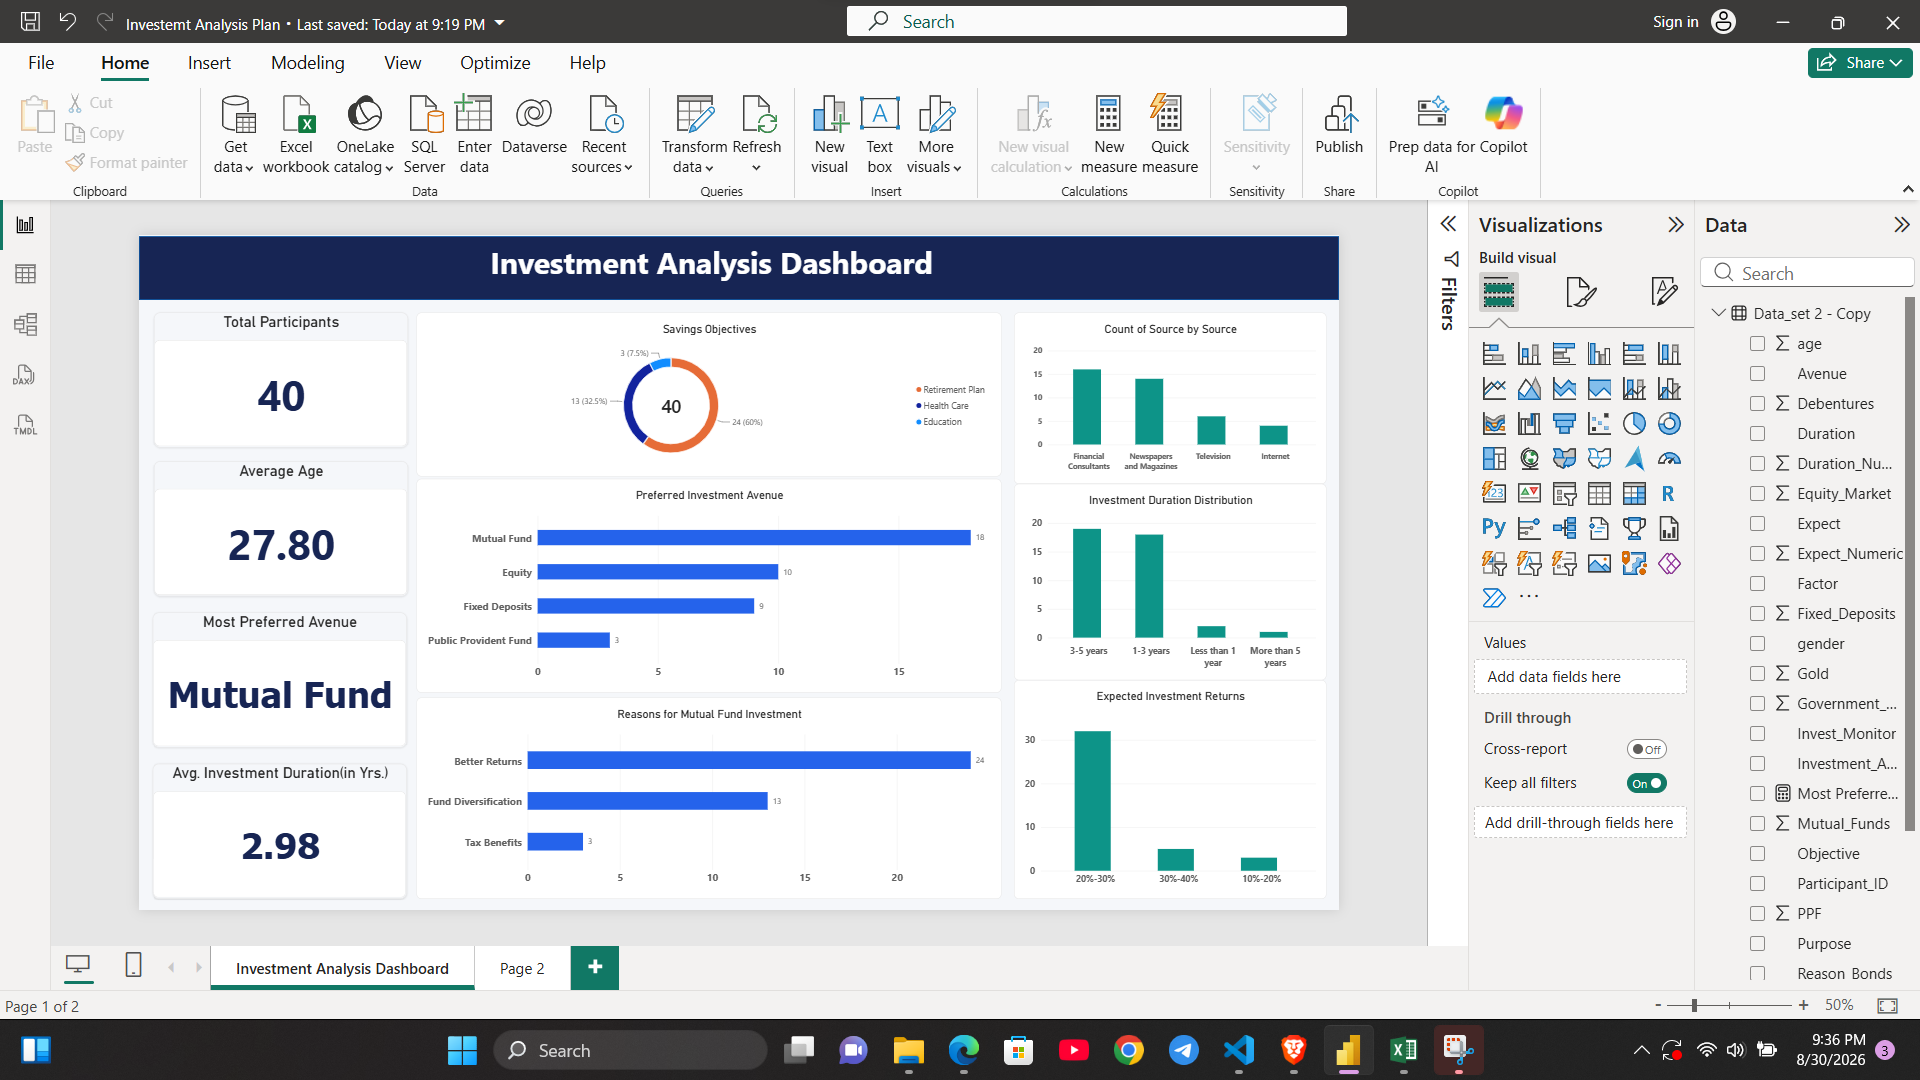

The page's visual inventory and layout, read from the dashboard file:
{"tool":"powerbi","page":{"name":"Investment Analysis Dashboard","canvas":[1920,1080],"ordinal":0},"visuals":[{"type":"shape","box":[0,2,1920,102],"z":0},{"type":"textbox","box":[562,10,718.4,78.2],"z":1000},{"type":"textbox","box":[0,140,300,300],"z":2000},{"type":"cardVisual","title":"Total Participants","fields":{"Data":["CountNonNull(Data_set 2 - Copy.Participant_ID)"]},"box":[24,124,406,216],"z":3000},{"type":"cardVisual","title":"Average Age","fields":{"Data":["Avg(Data_set 2 - Copy.age)"]},"box":[24,362,406,216],"z":4000},{"type":"cardVisual","title":"Most Preferred Avenue","fields":{"Data":["Data_set 2 - Copy.Most Preferred Avenue"]},"box":[22,604,406,216],"z":5000},{"type":"cardVisual","title":"Avg. Investment Duration(in Yrs.)","fields":{"Data":["Avg(Data_set 2 - Copy.Duration_Numeric)"]},"box":[22,846,406,216],"z":6000},{"type":"clusteredBarChart","title":"Preferred Investment Avenue","fields":{"Y":["CountNonNull(Data_set 2 - Copy.Avenue)"],"Category":["Data_set 2 - Copy.Avenue"]},"box":[444,390,936,342],"z":7000},{"type":"clusteredBarChart","title":"Reasons for Mutual Fund Investment","fields":{"Category":["Data_set 2 - Copy.Reason_Mutual"],"Y":["CountNonNull(Data_set 2 - Copy.Reason_Mutual)"]},"box":[444,740,936,322],"z":8000},{"type":"donutChart","title":"Savings Objectives","fields":{"Category":["Data_set 2 - Copy.What are your savings objectives?"],"Y":["CountNonNull(Data_set 2 - Copy.What are your savings objectives?)"]},"box":[444,124,936,262],"z":9000},{"type":"clusteredColumnChart","fields":{"Category":["Data_set 2 - Copy.Source"],"Y":["CountNonNull(Data_set 2 - Copy.Source)"]},"box":[1400,124,500,274],"z":10000},{"type":"clusteredColumnChart","title":"Investment Duration Distribution","fields":{"Category":["Data_set 2 - Copy.Duration"],"Y":["CountNonNull(Data_set 2 - Copy.Duration)"]},"box":[1400,398,500,314],"z":11000},{"type":"clusteredColumnChart","title":"Expected Investment Returns","fields":{"Category":["Data_set 2 - Copy.Expect"],"Y":["CountNonNull(Data_set 2 - Copy.Expect)"]},"box":[1400,712,500,350],"z":12000}]}

Visuals, with their boxes on the page's 1920x1080 design canvas (x1, y1, x2, y2). These are canvas units, not pixel positions in the 1920x1080 screenshot, which may show the page scaled, cropped or inside an application window:
shape: [0, 2, 1920, 104]
textbox: [562, 10, 1280, 88]
textbox: [0, 140, 300, 440]
"Total Participants" cardVisual: [24, 124, 430, 340]
"Average Age" cardVisual: [24, 362, 430, 578]
"Most Preferred Avenue" cardVisual: [22, 604, 428, 820]
"Avg. Investment Duration(in Yrs.)" cardVisual: [22, 846, 428, 1062]
"Preferred Investment Avenue" clusteredBarChart: [444, 390, 1380, 732]
"Reasons for Mutual Fund Investment" clusteredBarChart: [444, 740, 1380, 1062]
"Savings Objectives" donutChart: [444, 124, 1380, 386]
clusteredColumnChart - Data_set 2 - Copy.Source x CountNonNull(Data_set 2 - Copy.Source): [1400, 124, 1900, 398]
"Investment Duration Distribution" clusteredColumnChart: [1400, 398, 1900, 712]
"Expected Investment Returns" clusteredColumnChart: [1400, 712, 1900, 1062]
